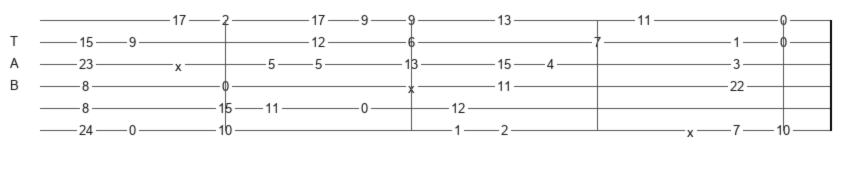0: (129, 123, 140, 137), (222, 79, 233, 93), (361, 101, 372, 115), (780, 35, 791, 49), (780, 13, 791, 27)
1: (454, 123, 465, 137), (733, 35, 744, 49)
10: (218, 123, 236, 137), (776, 123, 794, 137)
11: (265, 101, 283, 115), (497, 79, 515, 93), (637, 13, 655, 27)
12: (311, 35, 329, 49), (451, 101, 469, 115)
13: (404, 57, 422, 71), (497, 13, 515, 27)
15: (79, 35, 97, 49), (218, 101, 236, 115), (497, 57, 515, 71)
17: (172, 13, 190, 27), (311, 13, 329, 27)
2: (222, 13, 233, 27), (501, 123, 512, 137)
22: (730, 79, 748, 93)
23: (79, 57, 97, 71)
24: (79, 123, 97, 137)
3: (733, 57, 744, 71)
4: (547, 57, 558, 71)
5: (268, 57, 279, 71), (315, 57, 326, 71)
6: (408, 35, 419, 49)
7: (594, 35, 605, 49), (733, 123, 744, 137)
8: (82, 101, 93, 115), (82, 79, 93, 93)
9: (129, 35, 140, 49), (361, 13, 372, 27), (408, 13, 419, 27)
x: (175, 59, 186, 70), (408, 81, 419, 92), (687, 125, 698, 136)
